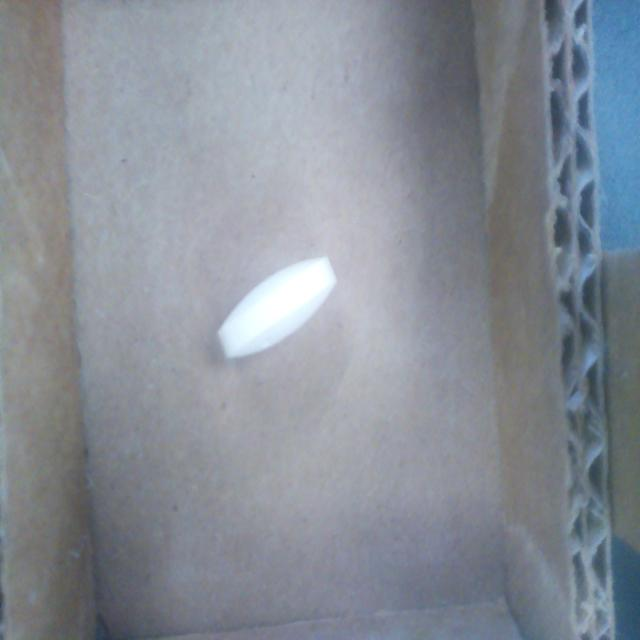pill: (217, 257, 338, 359)
